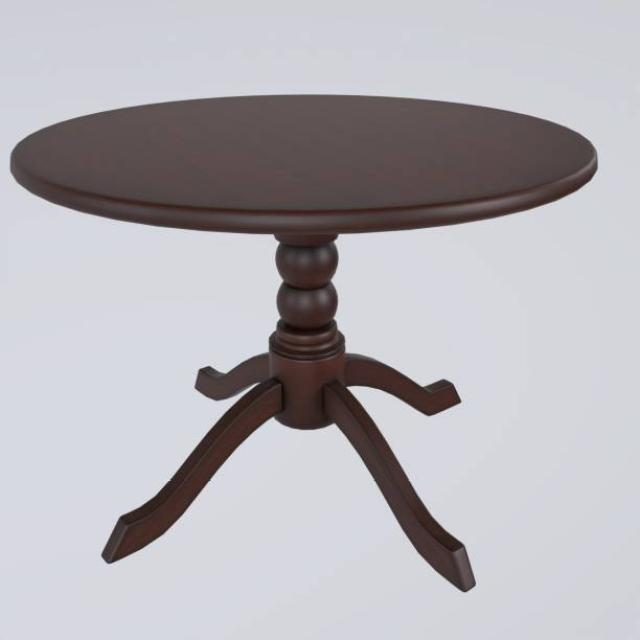table: (9, 92, 598, 593)
